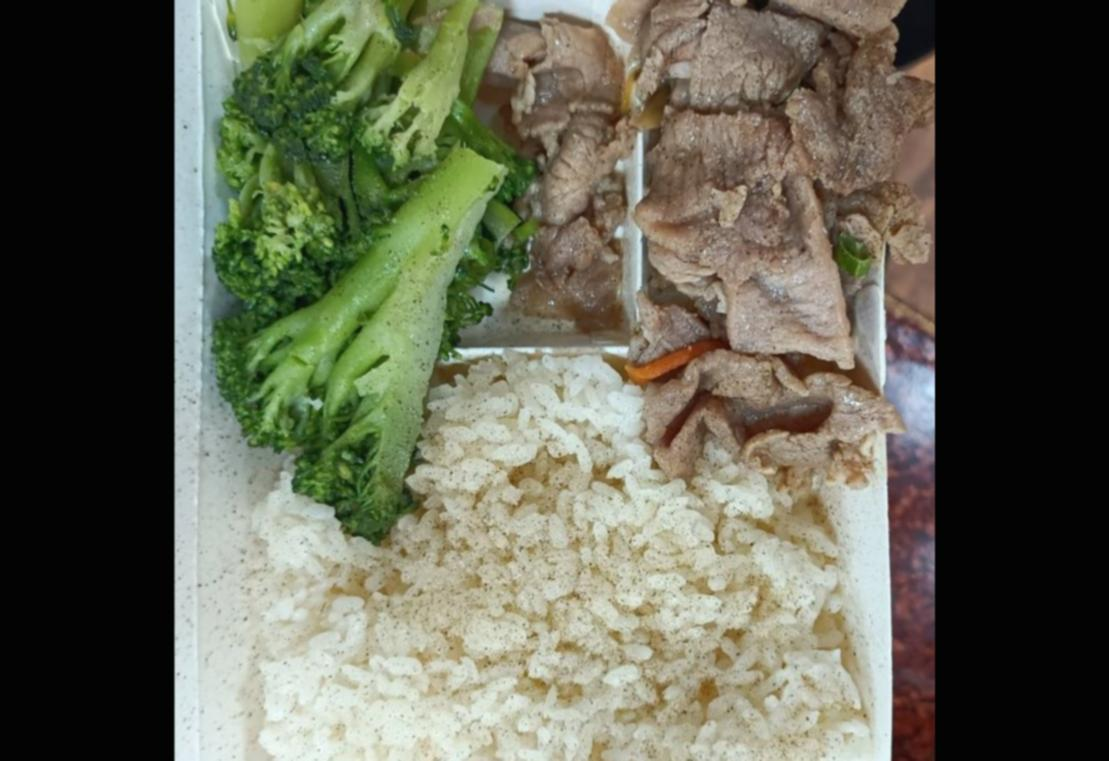box: (202, 0, 920, 761)
side dish: (201, 0, 529, 539)
thai pork: (490, 0, 925, 498)
white rice: (242, 367, 864, 761)
